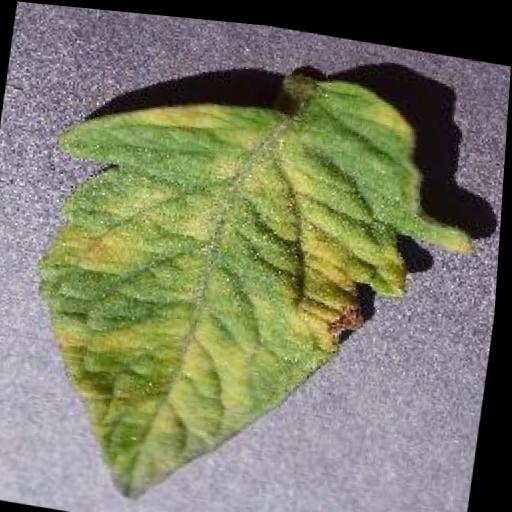Leaf Mold: (17, 29, 489, 512)
